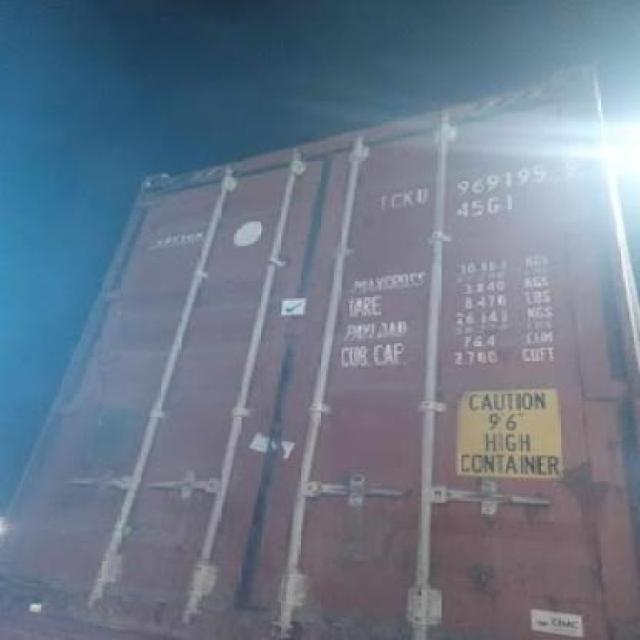ISO: (455, 192, 516, 222)
container_number: (374, 151, 586, 214)
